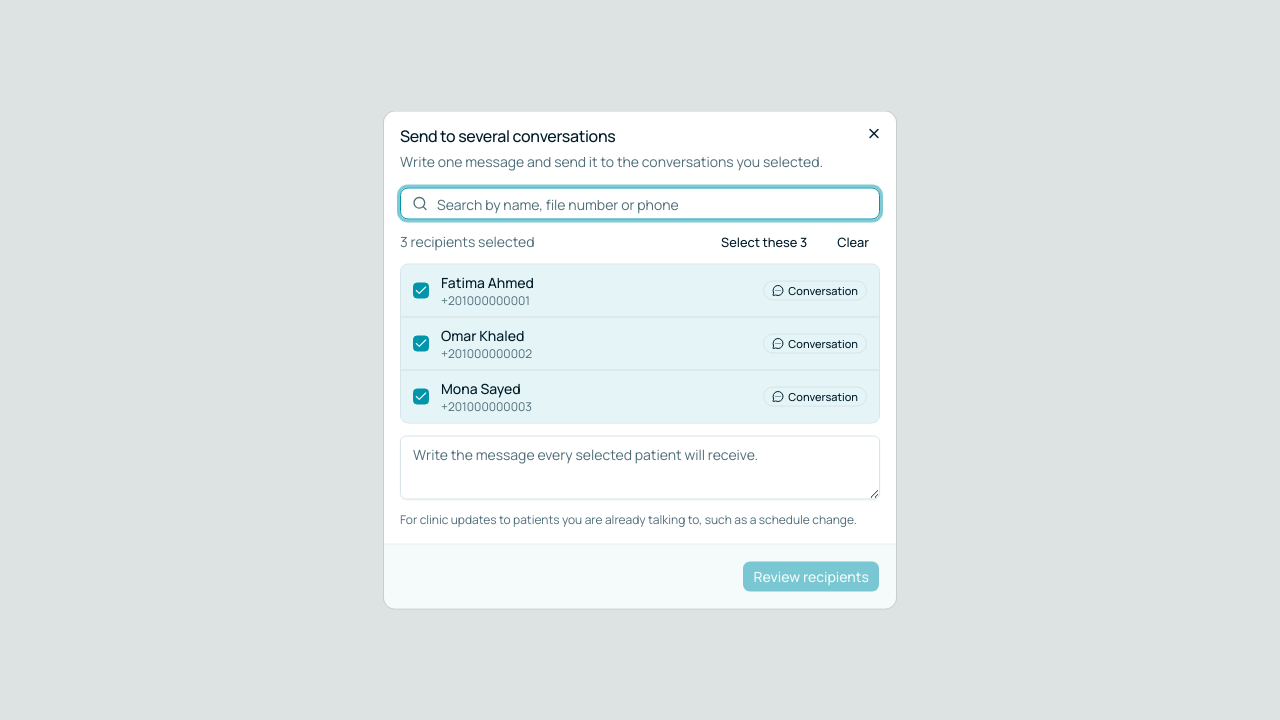
Test: P11Q — nothing is sent without an explicit confirmation › names the number of people on the confirmation button
Type "Closed tomorrow." into the text box with test id "bulk-body".
click(640, 468); type("Closed tomorrow.")  # box [400, 436, 880, 500]
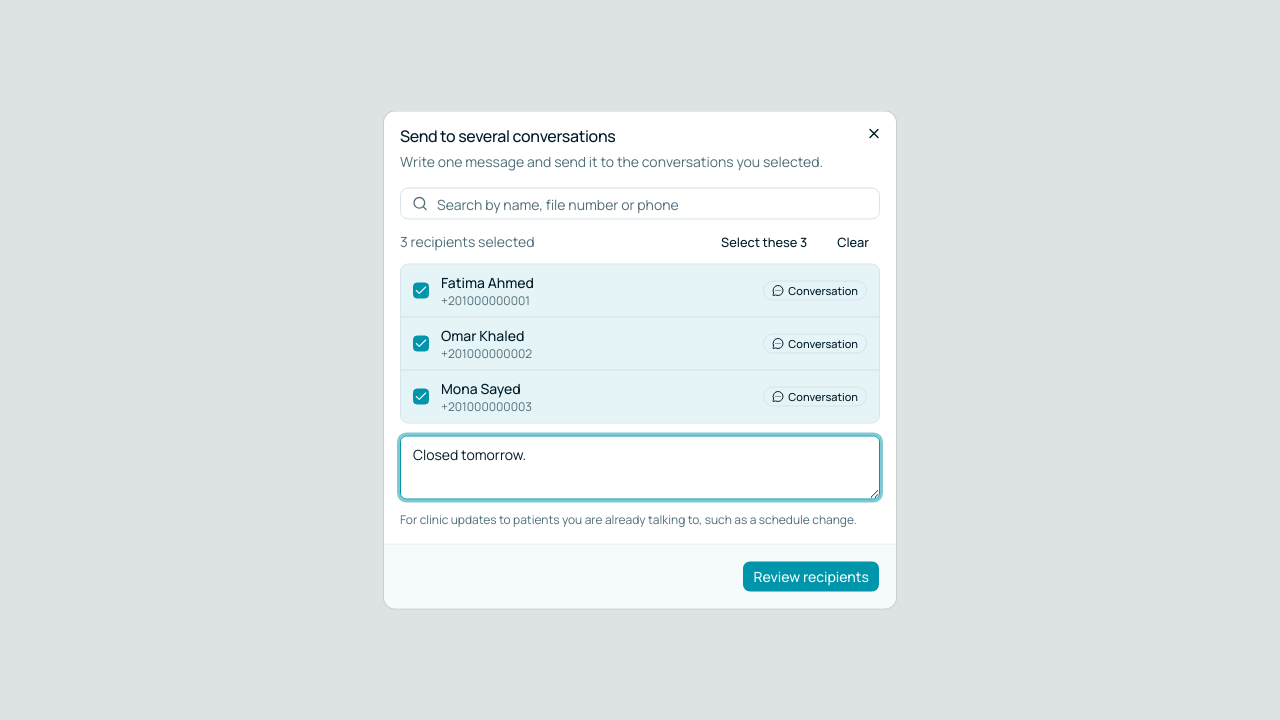
Click the button with test id "bulk-continue".
click(811, 576)  # box [742, 560, 880, 592]
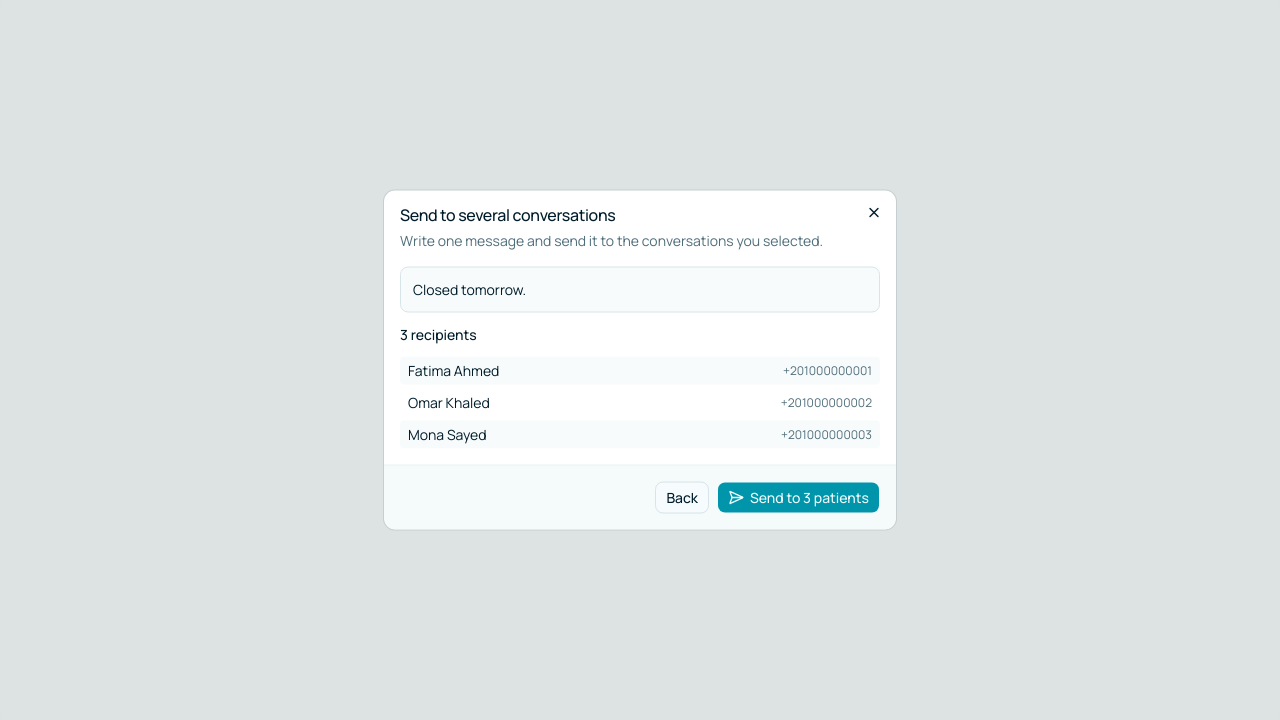
Expected: the button with test id "bulk-confirm" shows "3", [717, 482, 880, 514]
